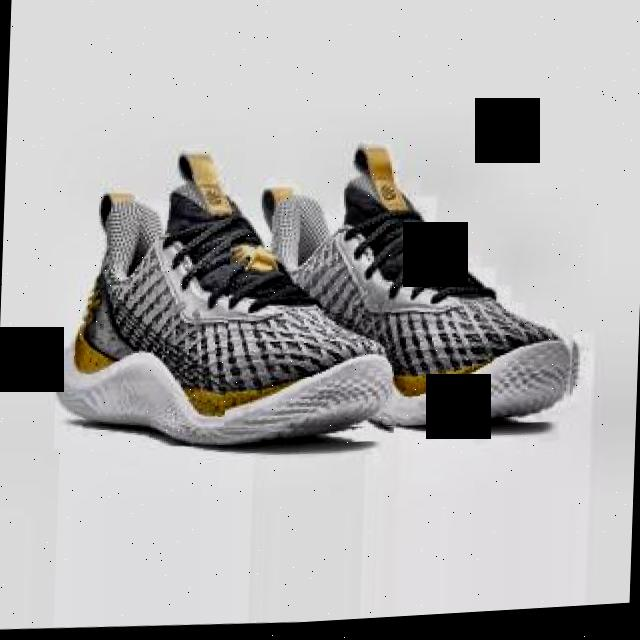shoe: (53, 137, 410, 462), (223, 134, 588, 445)
